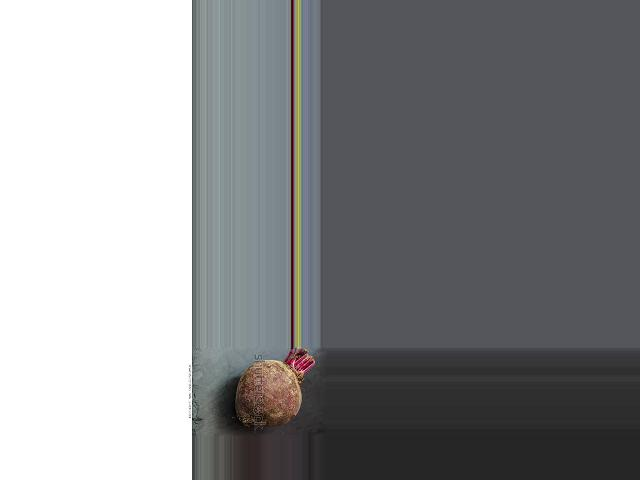beet: (235, 347, 314, 427)
